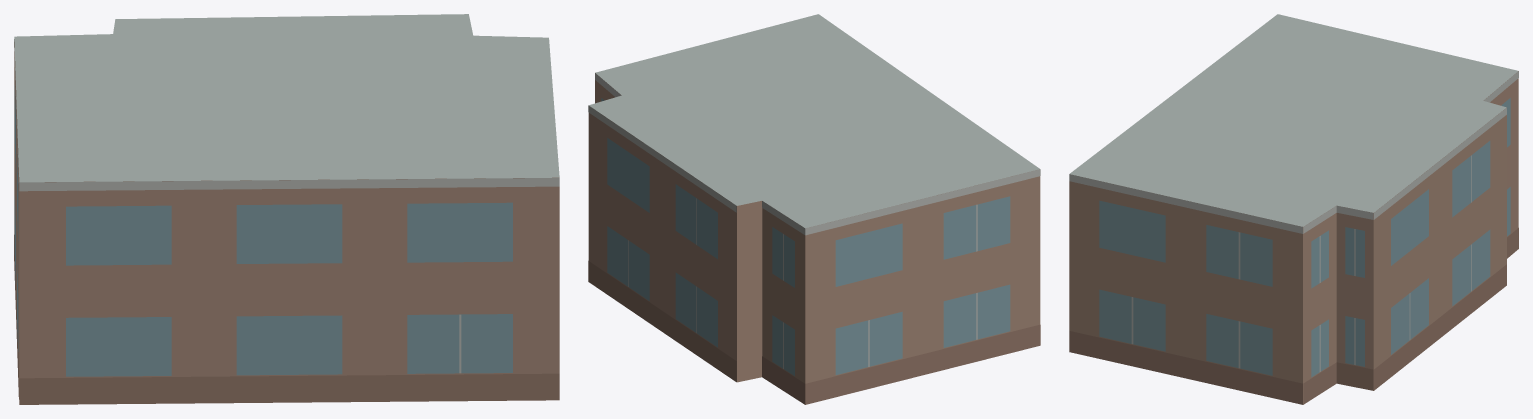
The model's file is survey-upis-32721880.glb.
3 renders of one model, left to right at view 1: azimuth 30°, elevation 25°; view 2: azimuth 150°, elevation 25°; view 3: azimuth 270°, elevation 25°, orthographic. The views are drawn at different scales.
Visible parts, largest first — view 1: survey-upis-32721880.tmp; view 2: survey-upis-32721880.tmp; view 3: survey-upis-32721880.tmp.
Boxes of the visible parts, x1=… form: survey-upis-32721880.tmp: x1=14, y1=14, x2=559, y2=404; survey-upis-32721880.tmp: x1=588, y1=14, x2=1040, y2=404; survey-upis-32721880.tmp: x1=1069, y1=14, x2=1518, y2=404.
Size of the model in its own units: 15.66 by 6.1 by 13.97.
